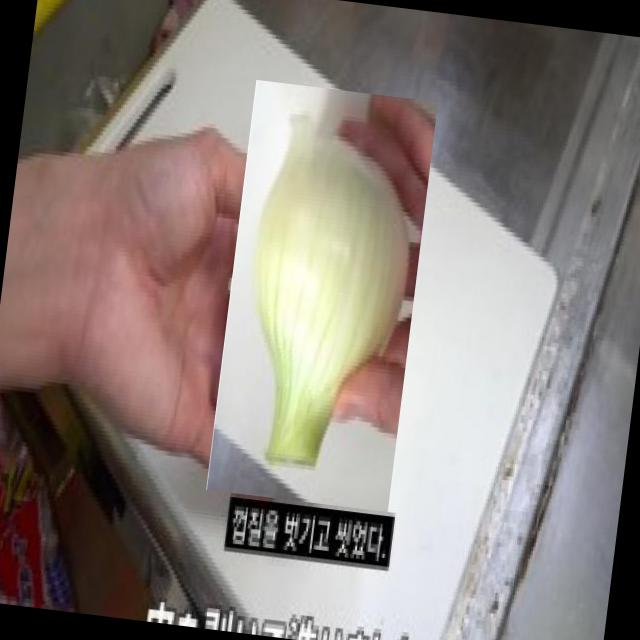Onion: (205, 79, 438, 512)
